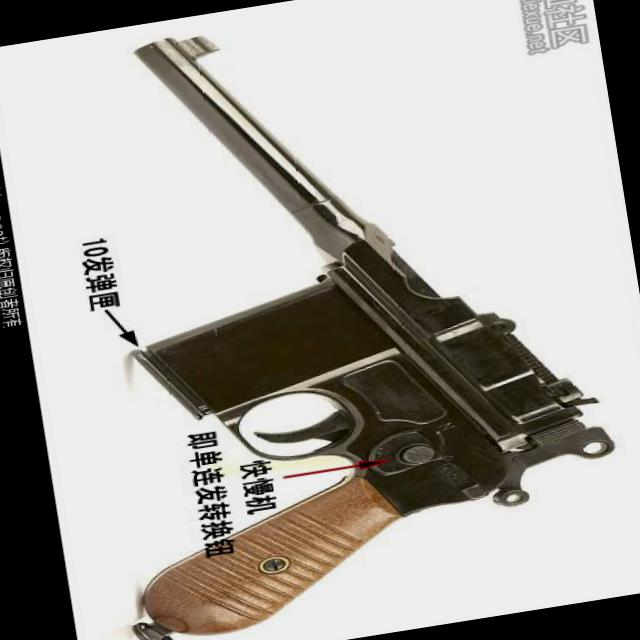handgun: (35, 0, 636, 639)
